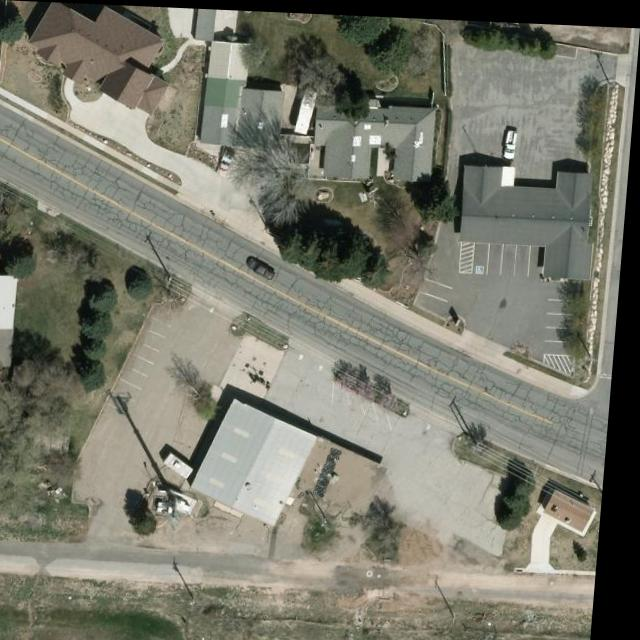vehicle: (248, 254, 284, 277), (219, 145, 238, 174), (503, 125, 521, 155)
